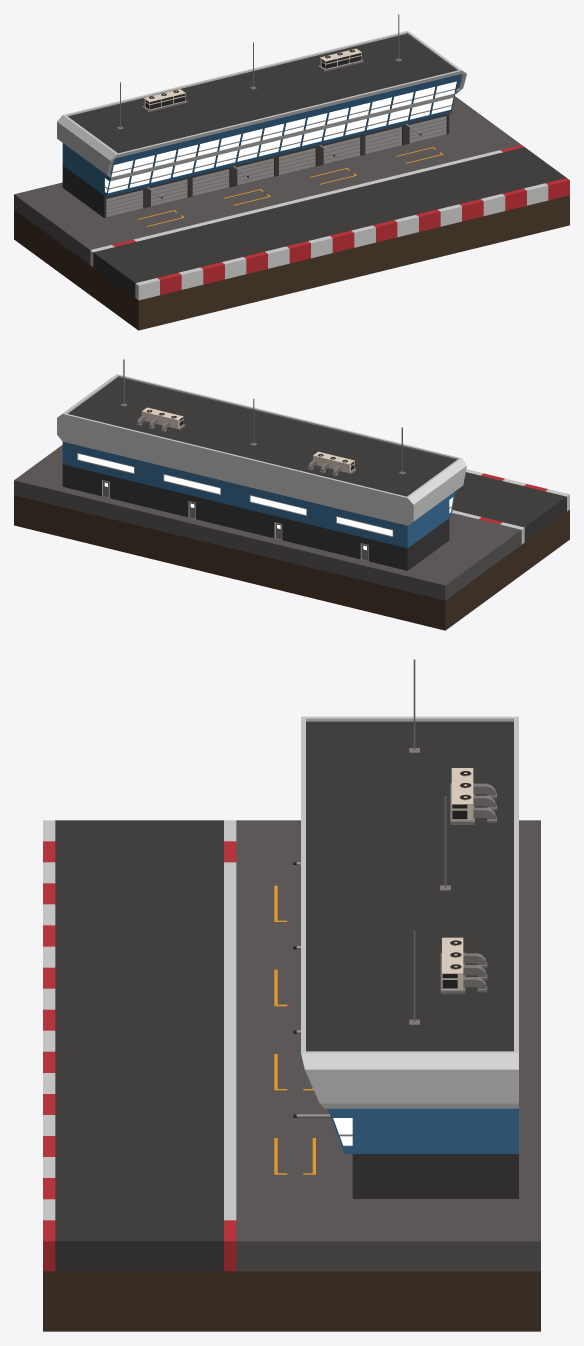
File: racing-tile-race-track-single-pit-lane.glb
3 renders of one model, top to bottom at view 1: azimuth 30°, elevation 25°; view 2: azimuth 150°, elevation 25°; view 3: azimuth 270°, elevation 25°, orthographic. The views are drawn at different scales.
Parts seen in each view (by area): view 1: tile-race-track-single-pit-lane; view 2: tile-race-track-single-pit-lane; view 3: tile-race-track-single-pit-lane.
Part boxes in pixels (x1,y1,x2,y2): tile-race-track-single-pit-lane: (14, 14, 569, 330); tile-race-track-single-pit-lane: (14, 359, 569, 630); tile-race-track-single-pit-lane: (43, 659, 540, 1331).
Bounding box in the file's own units: 60 × 21.51 × 30.
